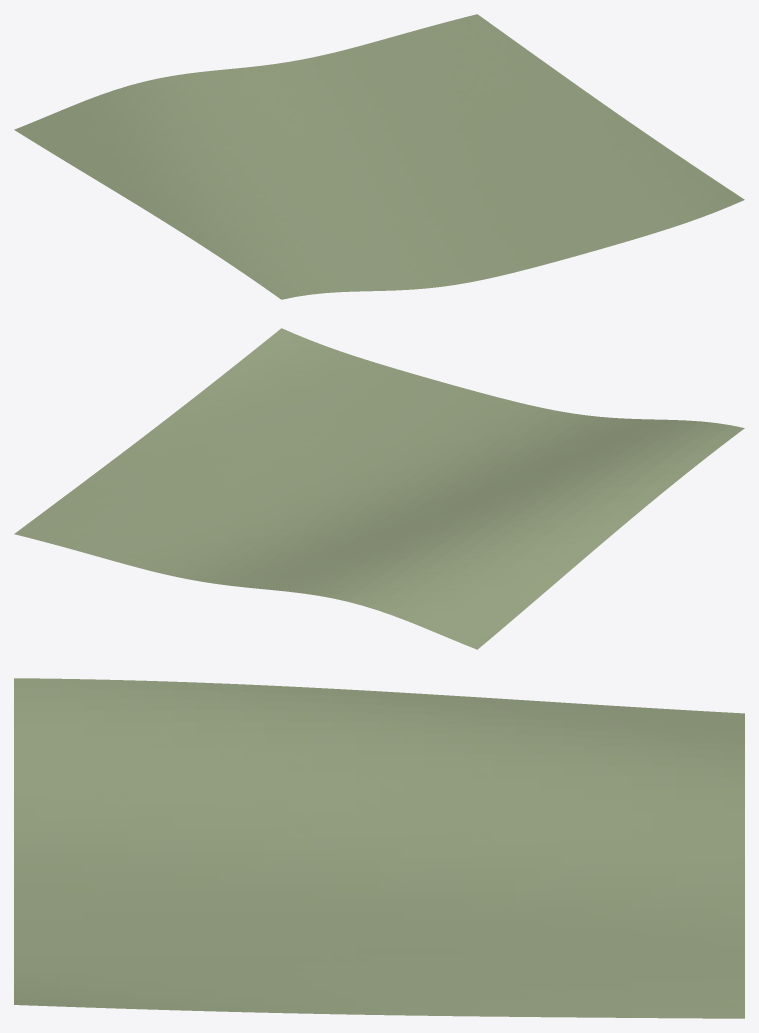
File: desert-4-3.glb
3 renders of one model, top to bottom at view 1: azimuth 30°, elevation 25°; view 2: azimuth 150°, elevation 25°; view 3: azimuth 270°, elevation 25°, orthographic. The views are drawn at different scales.
Parts seen in each view (by area): view 1: desert-4-3; view 2: desert-4-3; view 3: desert-4-3.
Boxes of the visible parts, bbox=[...] form: desert-4-3: bbox=[14, 14, 744, 299]; desert-4-3: bbox=[14, 328, 744, 649]; desert-4-3: bbox=[14, 678, 744, 1018].
Size of the model in its own units: 512 by 31.66 by 512.
